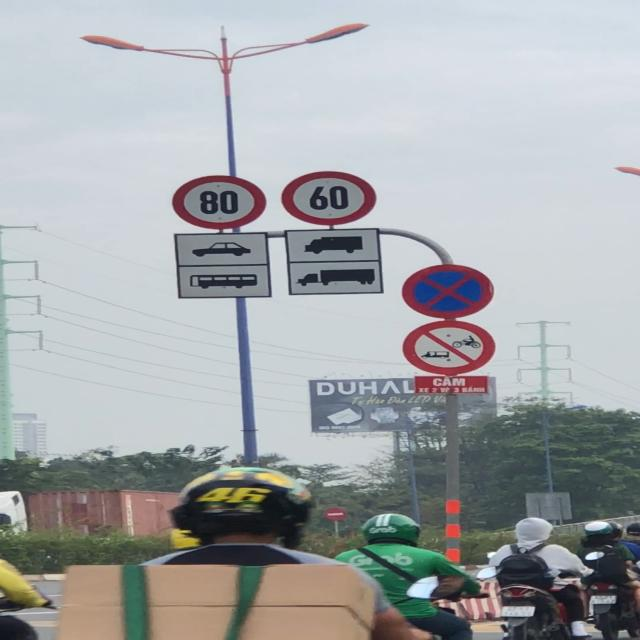Bien bao cam dung xe va do xe: (400, 263, 497, 320)
Bien bao toc do toi da cho phep: (278, 170, 383, 229), (172, 174, 268, 230)
